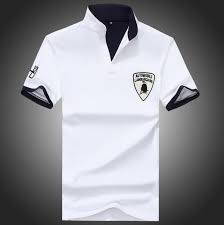C_polo shirt: (25, 4, 195, 223)
